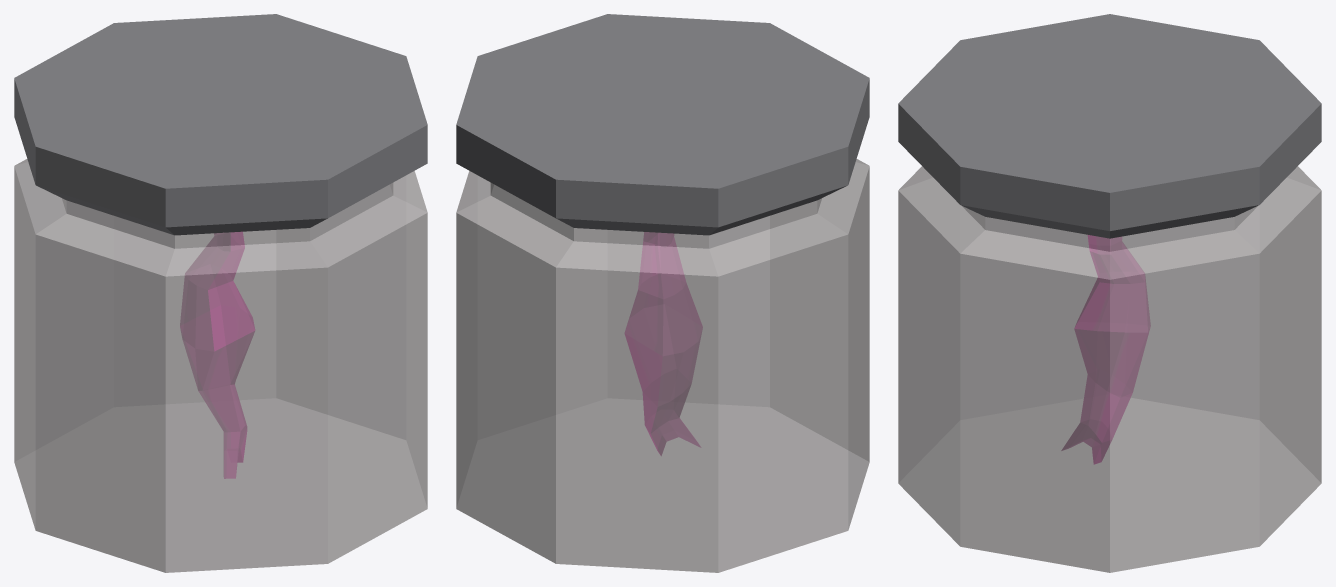
File: whisperJarB.gltf
3 renders of one model, left to right at view 1: azimuth 30°, elevation 25°; view 2: azimuth 150°, elevation 25°; view 3: azimuth 270°, elevation 25°, orthographic.
Parts seen in each view (by area): view 1: whisperInJar; view 2: whisperInJar; view 3: whisperInJar.
Part boxes in pixels (left/top/right/bottom): whisperInJar: left=14, top=14, right=427, bottom=572; whisperInJar: left=456, top=14, right=869, bottom=572; whisperInJar: left=898, top=14, right=1321, bottom=572.
Size of the model in its own units: 0.2 by 0.1981 by 0.2.
Materials: 2 (2 with a texture image).
